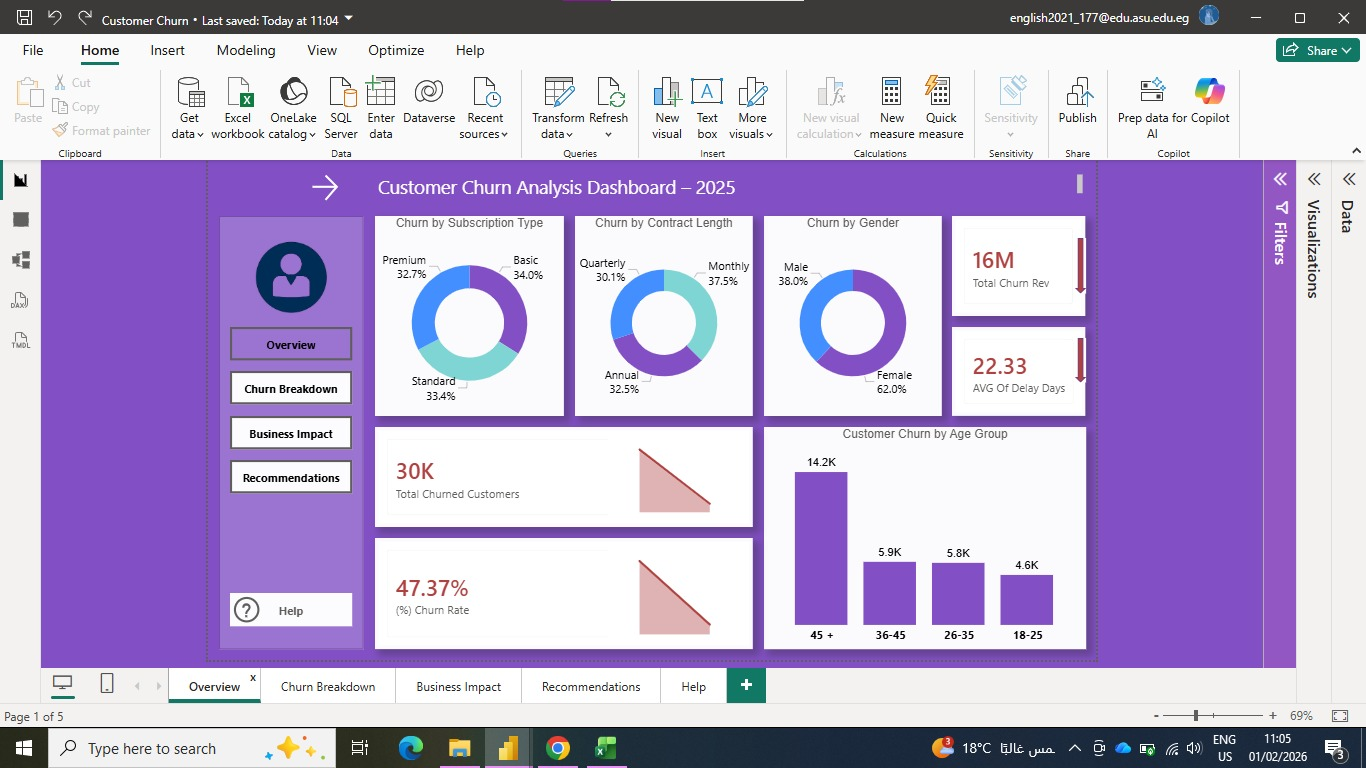

Layout of this report page (visuals, bound fields, positions):
{"tool":"powerbi","page":{"name":"Overview","canvas":[1280,720],"ordinal":0},"visuals":[{"type":"donutChart","title":"Churn by Gender","fields":{"Category":["customer_churn_dataset-testing-.Gender"],"Y":["Sum(customer_churn_dataset-testing-.Churn)"]},"box":[800,80,256,288],"z":0},{"type":"donutChart","title":"Churn by Subscription Type","fields":{"Y":["Sum(customer_churn_dataset-testing-.Churn)"],"Category":["customer_churn_dataset-testing-.Subscription Type"]},"box":[240,80,272,288],"z":1000},{"type":"donutChart","title":"Churn by Contract Length","fields":{"Category":["customer_churn_dataset-testing-.Contract Length"],"Y":["Sum(customer_churn_dataset-testing-.Churn)"]},"box":[528,80,256,288],"z":2000},{"type":"clusteredColumnChart","title":"Customer Churn by Age Group","fields":{"Category":["customer_churn_dataset-testing-.Age Range"],"Y":["Sum(customer_churn_dataset-testing-.Churn)"]},"box":[800,384,464,320],"z":3000},{"type":"cardVisual","fields":{"Data":["Sum(customer_churn_dataset-testing-.Churn)"]},"box":[240,384,544,144],"z":4000},{"type":"cardVisual","title":"ss","fields":{"Data":["Avg(customer_churn_dataset-testing-.Payment Delay)"]},"box":[1072,240,192,128],"z":5000},{"type":"cardVisual","fields":{"Data":["Sum(customer_churn_dataset-testing-.Total Spend)"]},"box":[1072,80,192,144],"z":6000},{"type":"cardVisual","fields":{"Data":["Sum(%.Percentage of Churn)"]},"box":[240,544,544,160],"z":7000},{"type":"textbox","box":[240,16,1024,48],"z":8000},{"type":"stackedAreaChart","fields":{"Y":["CountNonNull(1-0.Churn)"],"Category":["1-0.Churn"]},"box":[576,560,192,128],"z":9000},{"type":"shape","box":[16,80,208,624],"z":10000},{"type":"image","box":[16,112,208,112],"z":11000},{"type":"actionButton","box":[32,240,176,48],"z":12000},{"type":"actionButton","box":[32,304,176,48],"z":13000},{"type":"actionButton","box":[32,368,176,48],"z":14000},{"type":"actionButton","box":[32,432,176,48],"z":15000},{"type":"actionButton","box":[32,624,176,48],"z":16000},{"type":"stackedAreaChart","fields":{"Y":["CountNonNull(1-0.Churn)"],"Category":["1-0.Churn"]},"box":[576,400,192,112],"z":17000},{"type":"shape","box":[1248,112,16,80],"z":18000},{"type":"shape","box":[1248,256,16,64],"z":19000},{"type":"actionButton","box":[144,16,64,48],"z":20000}]}

Visuals, with their boxes on the page's 1280x720 design canvas (x1, y1, x2, y2). These are canvas units, not pixel positions in the 1366x768 screenshot, which may show the page scaled, cropped or inside an application window:
"Churn by Gender" donutChart: {"x1": 800, "y1": 80, "x2": 1056, "y2": 368}
"Churn by Subscription Type" donutChart: {"x1": 240, "y1": 80, "x2": 512, "y2": 368}
"Churn by Contract Length" donutChart: {"x1": 528, "y1": 80, "x2": 784, "y2": 368}
"Customer Churn by Age Group" clusteredColumnChart: {"x1": 800, "y1": 384, "x2": 1264, "y2": 704}
cardVisual - Sum(customer_churn_dataset-testing-.Churn): {"x1": 240, "y1": 384, "x2": 784, "y2": 528}
"ss" cardVisual: {"x1": 1072, "y1": 240, "x2": 1264, "y2": 368}
cardVisual - Sum(customer_churn_dataset-testing-.Total Spend): {"x1": 1072, "y1": 80, "x2": 1264, "y2": 224}
cardVisual - Sum(%.Percentage of Churn): {"x1": 240, "y1": 544, "x2": 784, "y2": 704}
textbox: {"x1": 240, "y1": 16, "x2": 1264, "y2": 64}
stackedAreaChart - CountNonNull(1-0.Churn) x 1-0.Churn: {"x1": 576, "y1": 560, "x2": 768, "y2": 688}
shape: {"x1": 16, "y1": 80, "x2": 224, "y2": 704}
image: {"x1": 16, "y1": 112, "x2": 224, "y2": 224}
actionButton: {"x1": 32, "y1": 240, "x2": 208, "y2": 288}
actionButton: {"x1": 32, "y1": 304, "x2": 208, "y2": 352}
actionButton: {"x1": 32, "y1": 368, "x2": 208, "y2": 416}
actionButton: {"x1": 32, "y1": 432, "x2": 208, "y2": 480}
actionButton: {"x1": 32, "y1": 624, "x2": 208, "y2": 672}
stackedAreaChart - CountNonNull(1-0.Churn) x 1-0.Churn: {"x1": 576, "y1": 400, "x2": 768, "y2": 512}
shape: {"x1": 1248, "y1": 112, "x2": 1264, "y2": 192}
shape: {"x1": 1248, "y1": 256, "x2": 1264, "y2": 320}
actionButton: {"x1": 144, "y1": 16, "x2": 208, "y2": 64}
